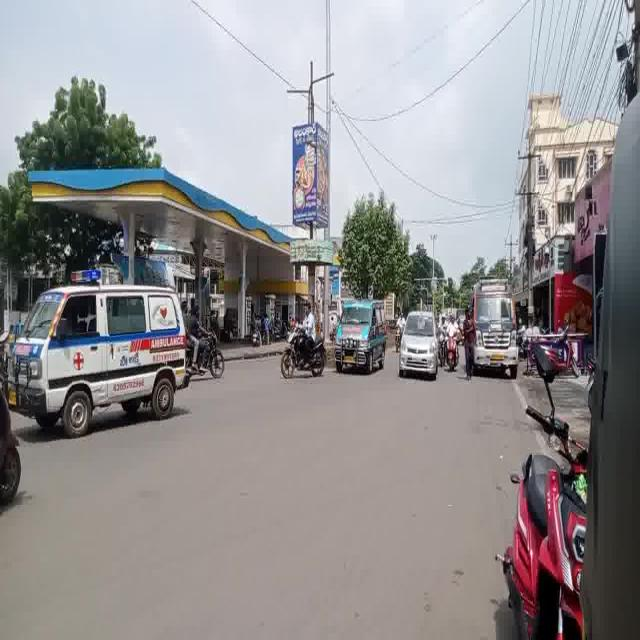ambulance: (2, 261, 204, 442), (472, 276, 522, 389), (338, 303, 386, 377)
